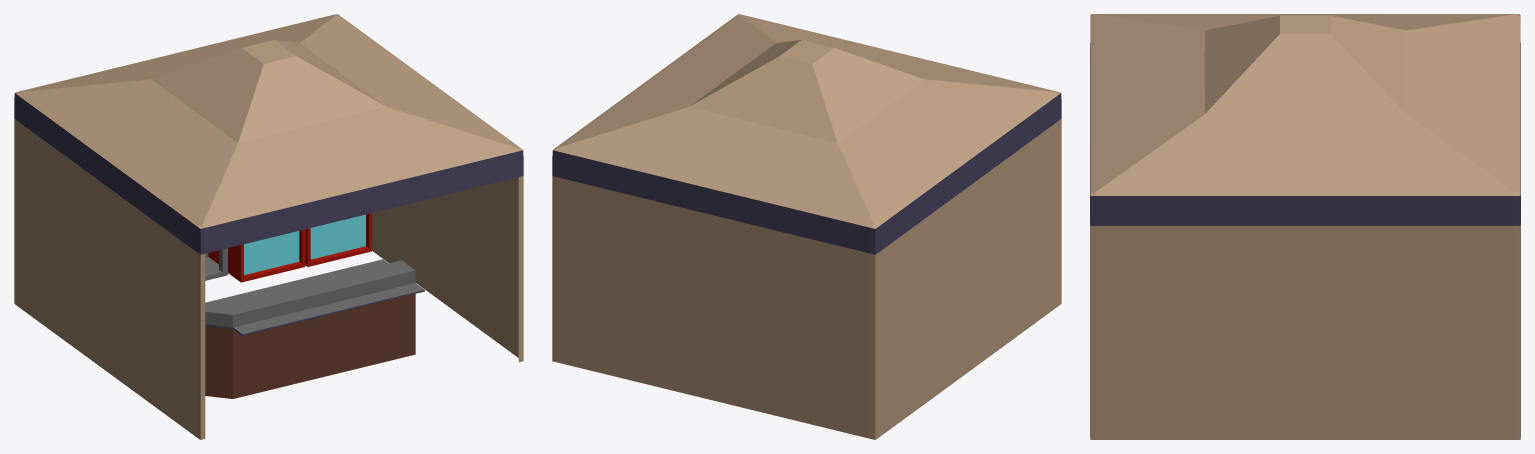
The model's file is Tori_Koju_Burger.fbx.
The picture shows the model from 3 angles, left to right: view 1: azimuth 30°, elevation 25°; view 2: azimuth 150°, elevation 25°; view 3: azimuth 270°, elevation 25°; orthographic projection. The views are drawn at different scales.
Parts seen in each view (by area): view 1: Teltta, Sisälmykset; view 2: Teltta; view 3: Teltta.
Part boxes in pixels (<box>): Teltta: <box>14,14,523,439</box>; Sisälmykset: <box>205,213,424,398</box>; Teltta: <box>552,14,1061,439</box>; Teltta: <box>1090,14,1520,439</box>.
Bounding box in the file's own units: 403 × 334 × 402.
